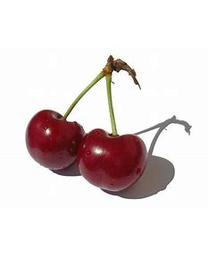cherry: (77, 127, 147, 192), (26, 110, 85, 169)
